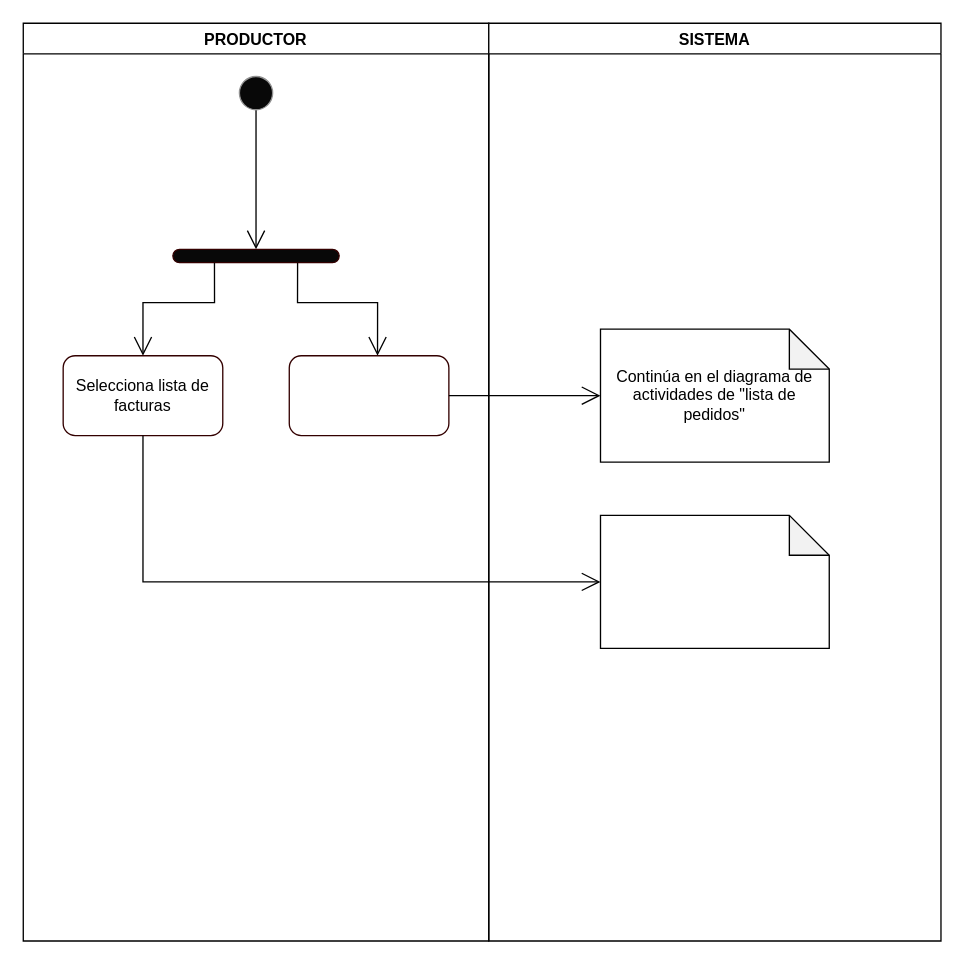
The diagram is 964 pixels wide and 964 high, and some of its shapes have lost their labels. Here are the shapes that lost their labels. From the top down, the centre of each, then its label:
pixel 368 395: Selecciona lista de pedidos
pixel 714 581: Continúa en el diagrama de actividades de "lista de facturas"
